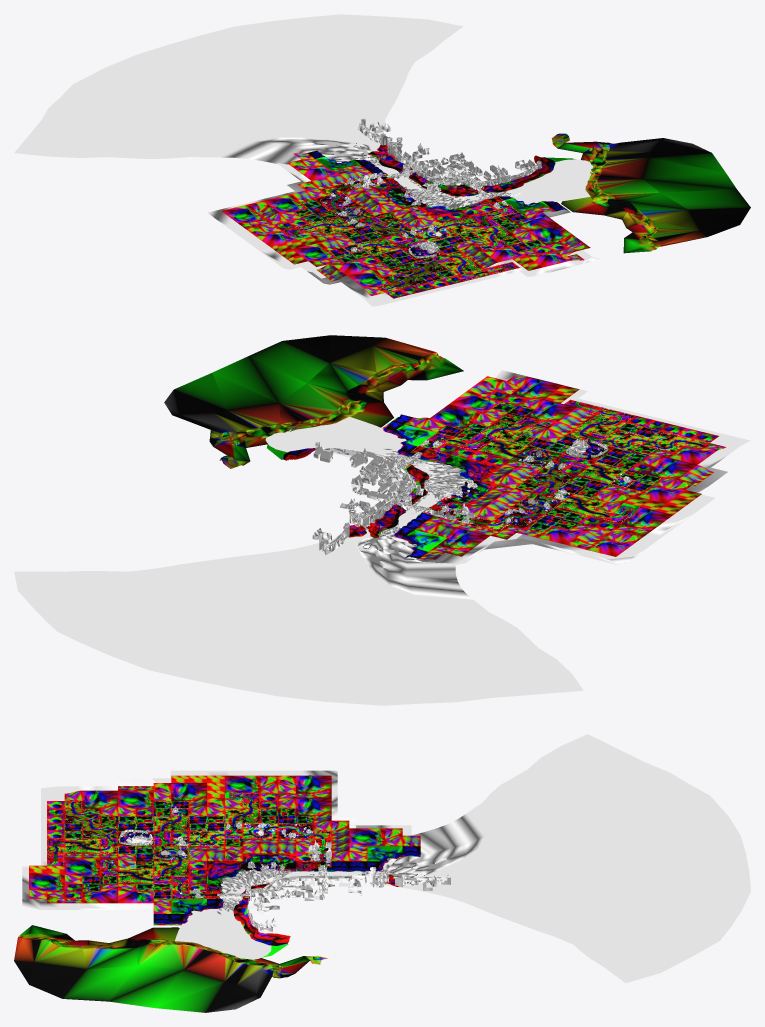
Rendered from vizima_outskirts.glb.
3 renders of one model, top to bottom at view 1: azimuth 30°, elevation 25°; view 2: azimuth 150°, elevation 25°; view 3: azimuth 270°, elevation 25°, orthographic. The views are drawn at different scales.
Visible parts, largest first — view 1: river, otoczenie, pre_ter_pola_pdwyzszenieM__02 (×5), podmurze (×3), Oslona, Oslona00397, Mur_tyl; view 2: river, otoczenie, pre_ter_pola_pdwyzszenieM__02 (×7), pre_ter_drogaA__03 (×5), Oslona00397, Oslona, pre_ter_drogaB__02 (×3), Mur_tyl, podmurze, Oslona00398; view 3: river, otoczenie, pre_ter_pola_pdwyzszenieM__02 (×11), pre_ter_drogaA__03 (×5), Oslona, Mur_tyl (×3), pre_ter_drogaB__02 (×3), Oslona00397, pre_ter_skarpaKK__02 (×2), pre_ter_drogaB__03 (×2), pre_ter_skarpaF__02, podmurze (+1 smaller).
Part boxes in pixels (x1,y1,x2,y2): river: (14,14,593,209); otoczenie: (551,133,750,253); pre_ter_pola_pdwyzszenieM__02 (×5): (221,194,573,287); podmurze (×3): (368,144,575,196); Oslona: (307,250,600,306); Oslona00397: (207,181,327,278); Mur_tyl: (361,122,536,180); river: (14,417,583,705); otoczenie: (164,335,463,468); pre_ter_pola_pdwyzszenieM__02 (×7): (430,377,697,549); pre_ter_drogaA__03 (×5): (477,415,628,515); Oslona00397: (484,487,715,564); Oslona: (495,370,750,492); pre_ter_drogaB__02 (×3): (524,430,692,489); Mur_tyl: (315,446,408,545); podmurze: (283,448,427,537); Oslona00398: (379,461,522,565); river: (175,734,750,982); otoczenie: (14,925,327,1012); pre_ter_pola_pdwyzszenieM__02 (×11): (29,775,384,903); pre_ter_drogaA__03 (×5): (64,808,260,883); Oslona: (22,778,155,909); Mur_tyl (×3): (250,867,450,931); pre_ter_drogaB__02 (×3): (64,808,224,846); Oslona00397: (152,770,355,828); pre_ter_skarpaKK__02 (×2): (171,846,402,917); pre_ter_drogaB__03 (×2): (153,823,278,861); pre_ter_skarpaF__02: (207,861,242,879); podmurze: (233,874,393,945).
Size of the model in its own units: 1188 by 53.64 by 1325.
